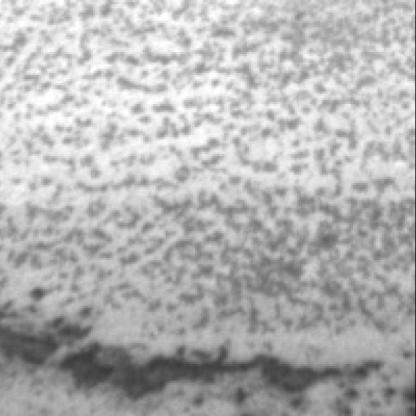patches: (41, 320, 386, 404)
pitted_surface: (0, 0, 410, 328)
